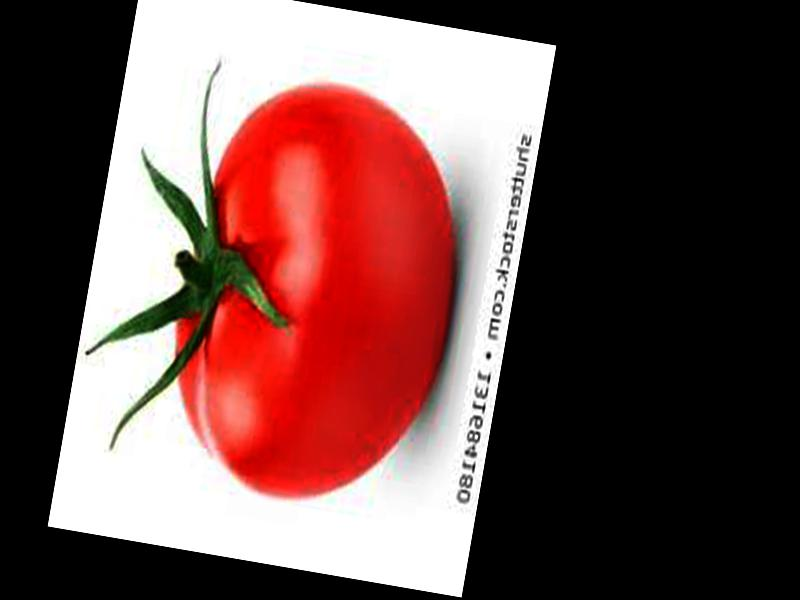Tomato: (153, 67, 481, 520)
